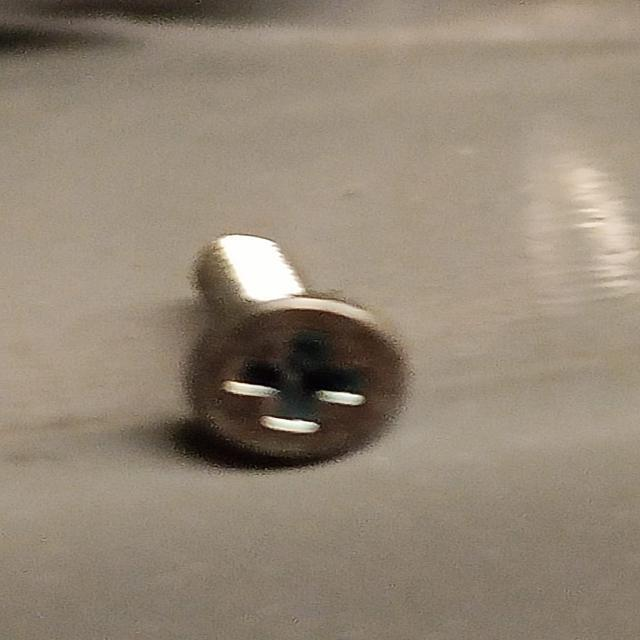phillips: (185, 297, 408, 466)
